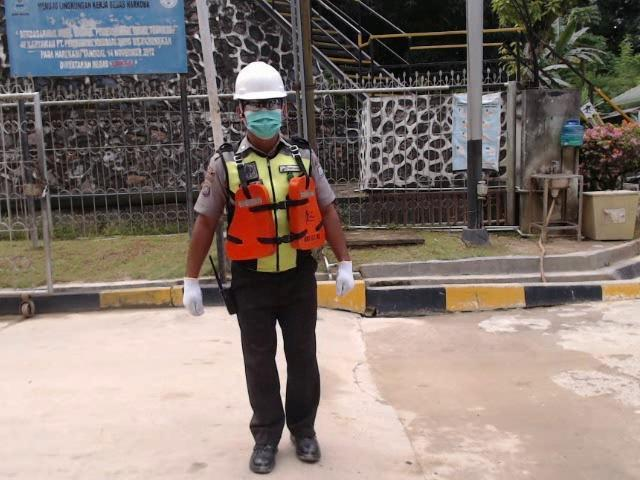vest: (222, 174, 327, 265)
